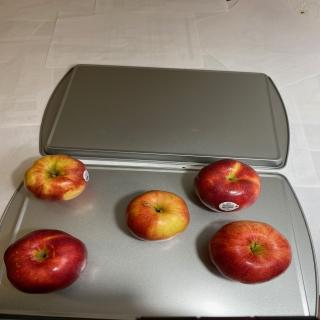Apple: (208, 220, 292, 285), (4, 229, 88, 294), (193, 158, 261, 213), (125, 190, 190, 242), (23, 154, 89, 202)
